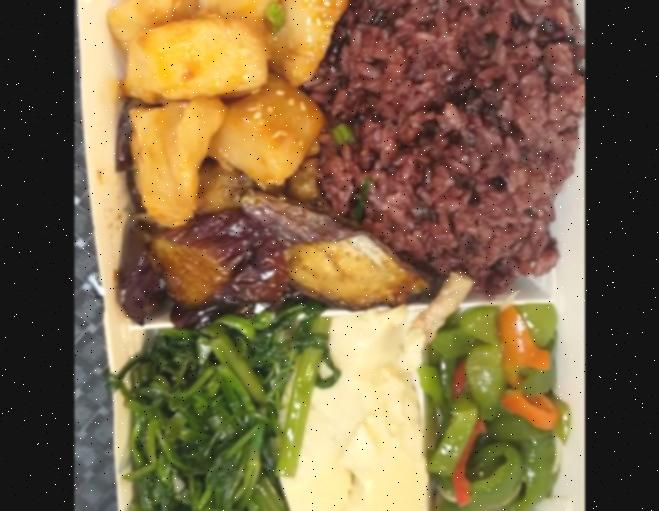box: (74, 0, 585, 511)
purple rice: (323, 0, 581, 287)
side dish: (132, 310, 312, 511), (118, 194, 407, 312), (288, 298, 434, 511), (426, 299, 570, 511)
spicy chicken: (106, 0, 346, 219)
